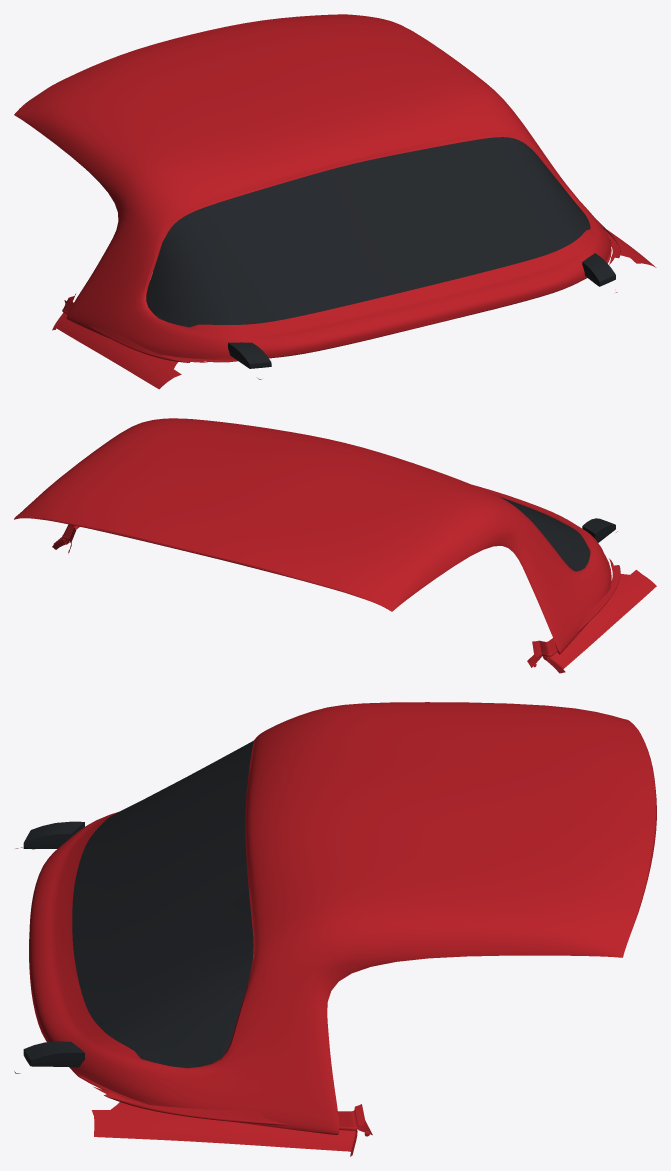
File: oem.glb
3 renders of one model, top to bottom at view 1: azimuth 30°, elevation 25°; view 2: azimuth 150°, elevation 25°; view 3: azimuth 270°, elevation 25°, orthographic. The views are drawn at different scales.
Parts seen in each view (by area): view 1: Miata_Aero_RoofOEM, Miata_Roof_Mount_RoofOEM; view 2: Miata_Aero_RoofOEM, Miata_Roof_Mount_RoofOEM; view 3: Miata_Aero_RoofOEM, Miata_Roof_Mount_RoofOEM.
Part boxes in pixels (left/top/right/bottom): Miata_Aero_RoofOEM: left=14, top=14, right=615, bottom=368; Miata_Roof_Mount_RoofOEM: left=52, top=220, right=656, bottom=389; Miata_Aero_RoofOEM: left=14, top=418, right=615, bottom=654; Miata_Roof_Mount_RoofOEM: left=52, top=524, right=656, bottom=673; Miata_Aero_RoofOEM: left=23, top=702, right=656, bottom=1134; Miata_Roof_Mount_RoofOEM: left=14, top=847, right=372, bottom=1156.
Size of the model in its own units: 62.44 by 18.36 by 52.51.
